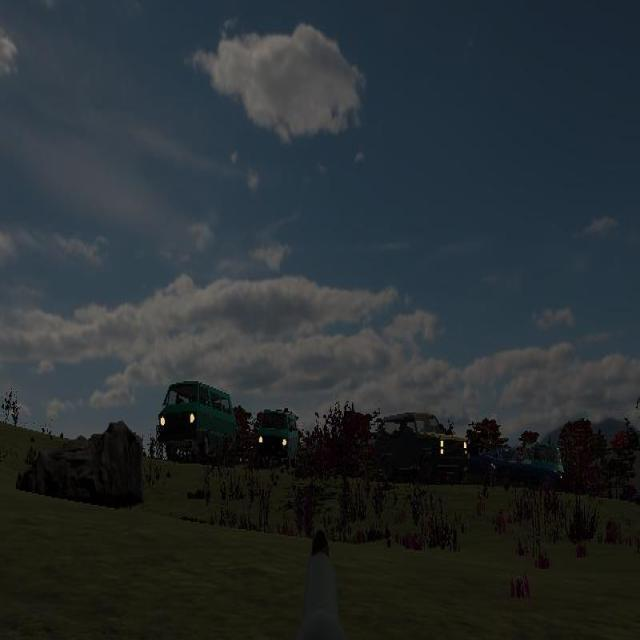car: (375, 412, 469, 483), (159, 380, 236, 465), (493, 439, 564, 492), (257, 407, 298, 469)
